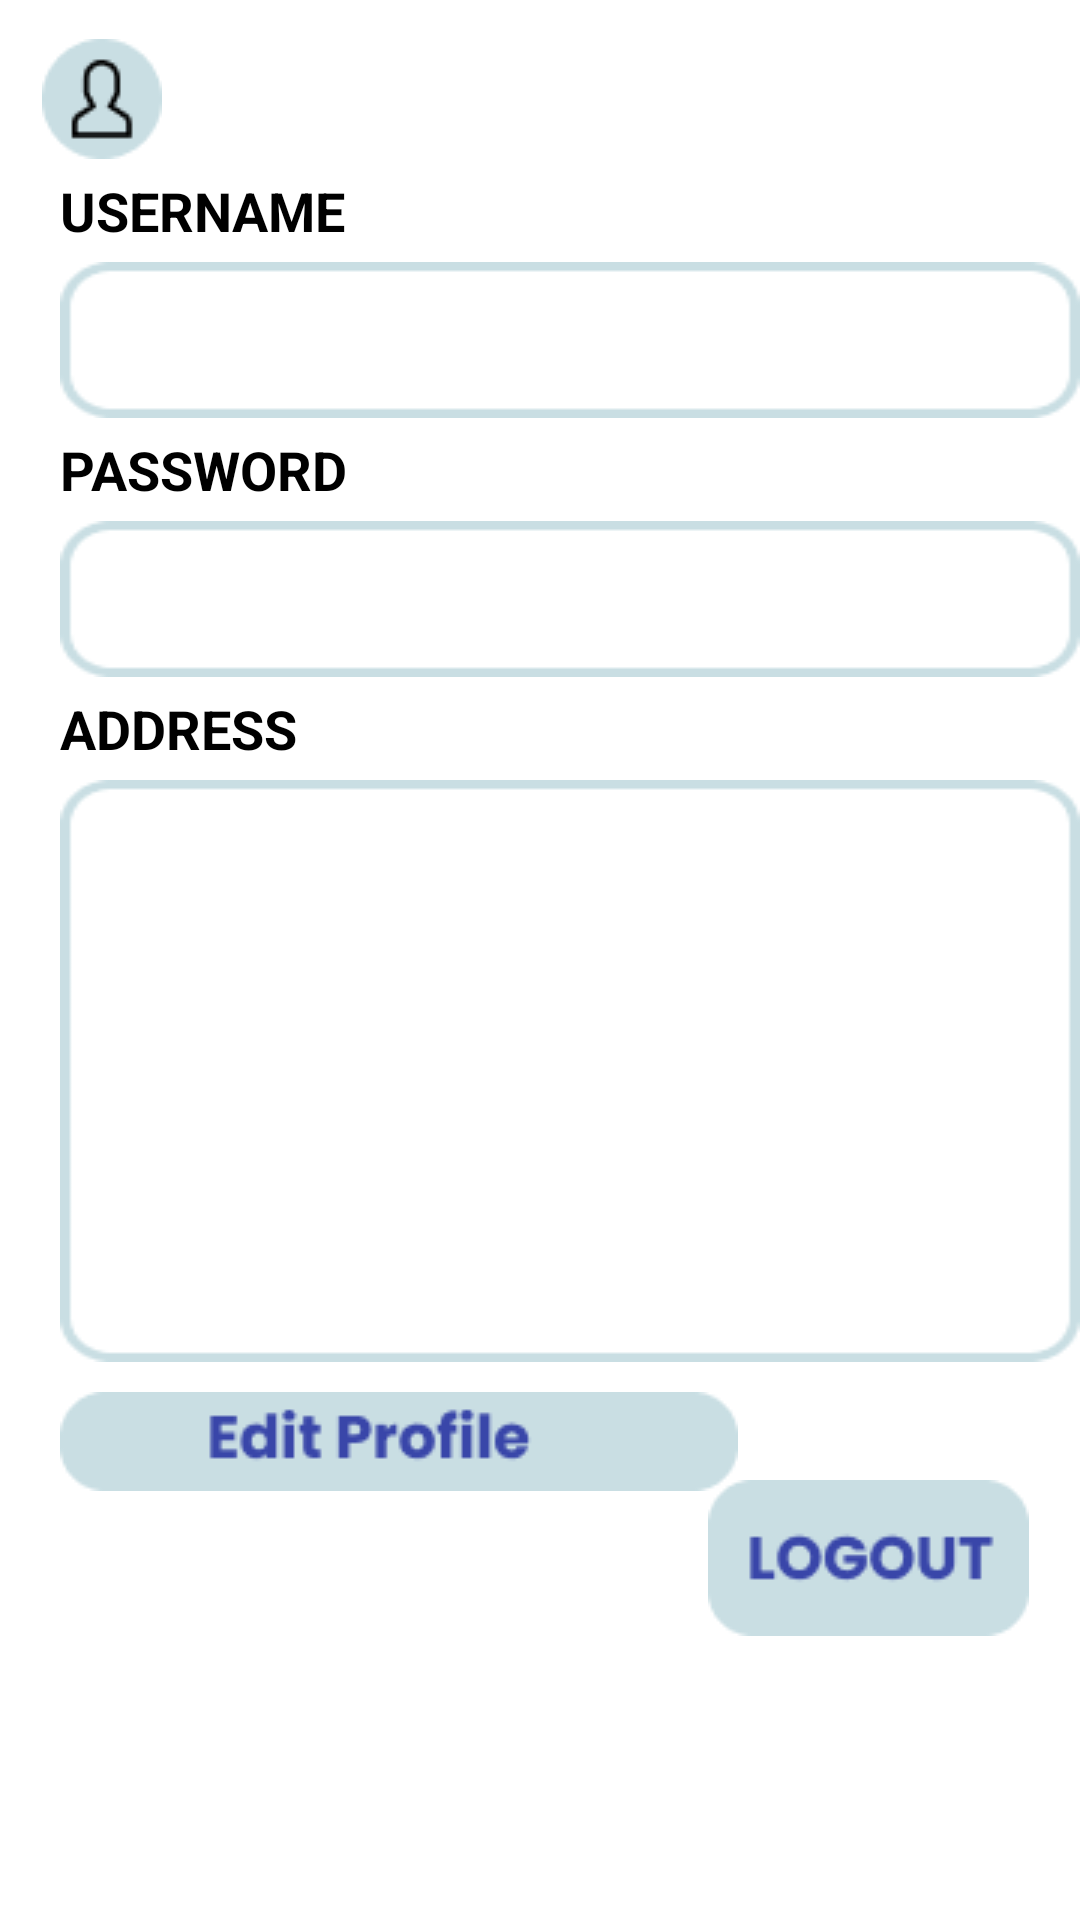

Icons on this 1080 x 1920 Android screen, each with the point to tap as (x,y):
profile: (102,99)
